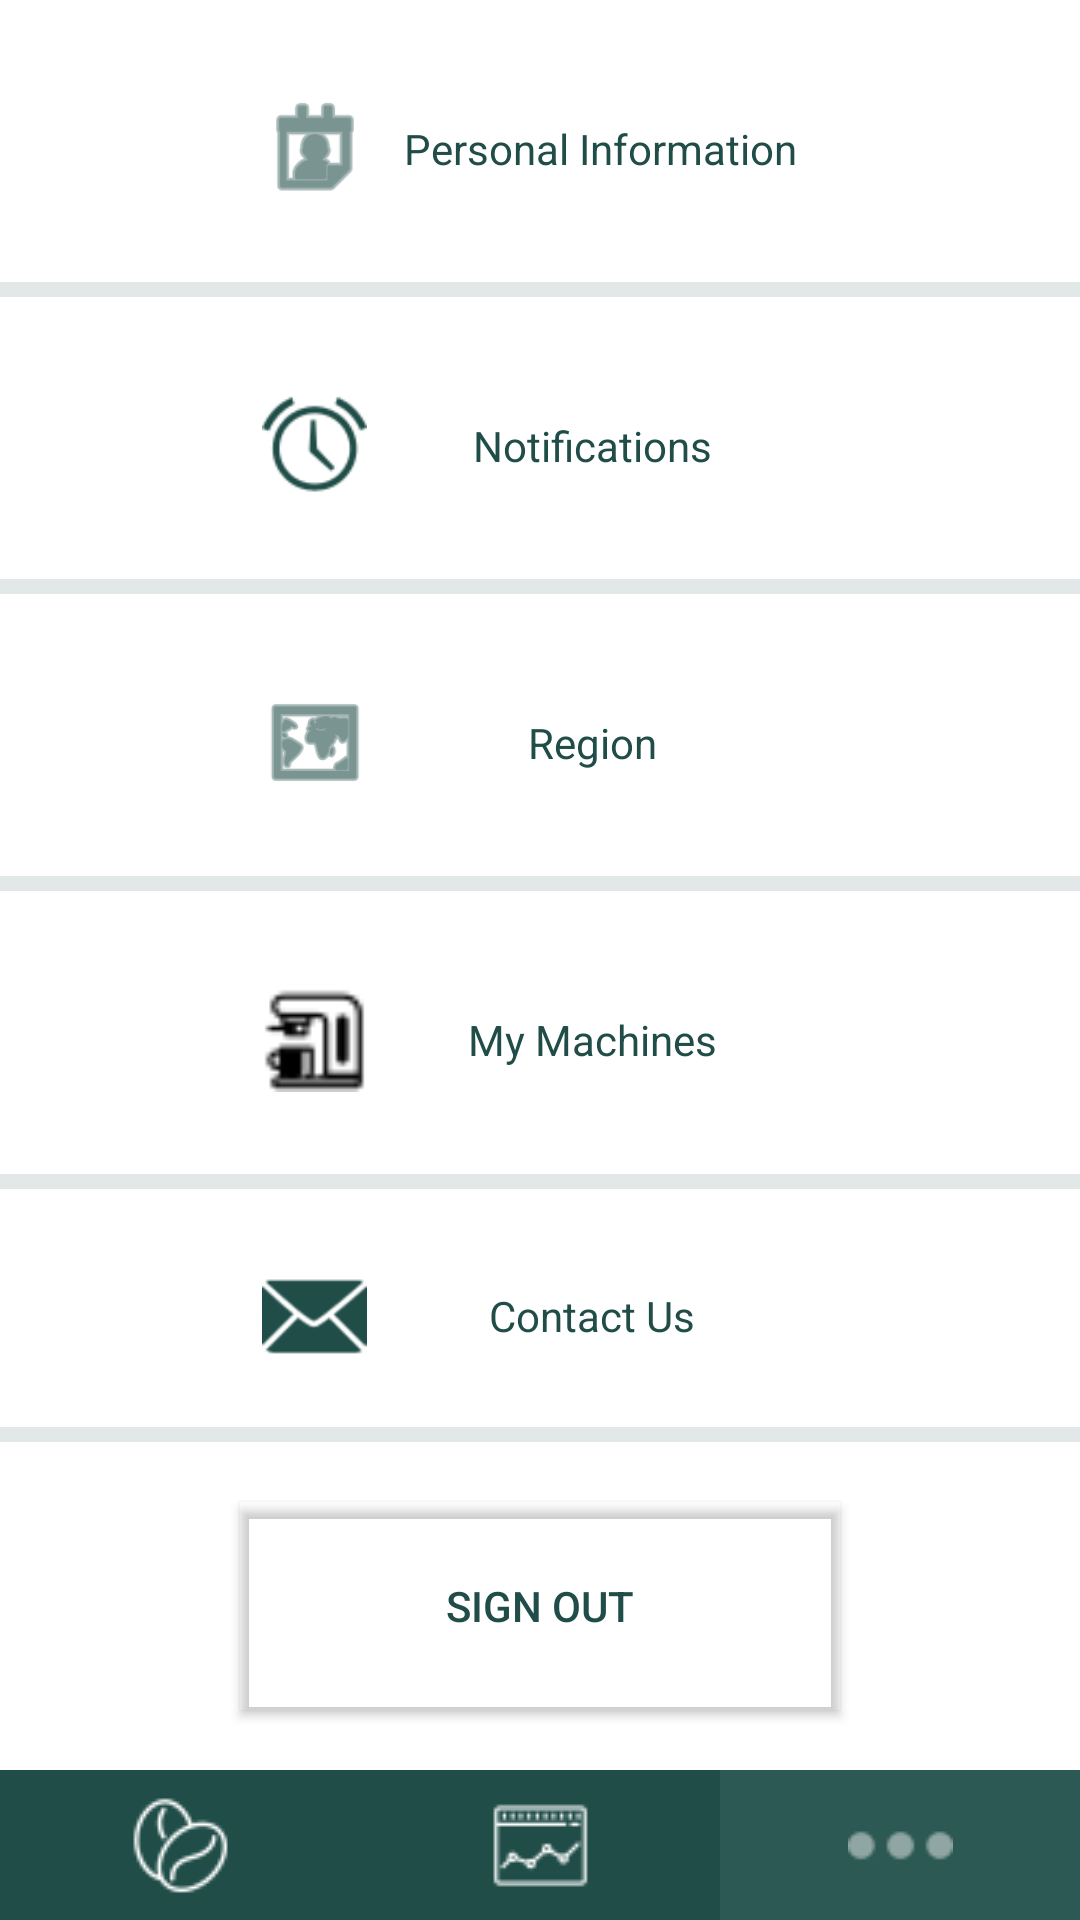

Screen size 1080*1920. Icon name, then its box in pixels as [x1=x1, y1=y1, x2=x2, y2=y2]:
bottomnav beans: [x1=133, y1=1798, x2=228, y2=1893]
calendar: [x1=276, y1=103, x2=354, y2=191]
email: [x1=262, y1=1279, x2=367, y2=1354]
lock idle alarm: [x1=262, y1=397, x2=367, y2=492]
machineicon: [x1=265, y1=990, x2=364, y2=1092]
mapmode: [x1=271, y1=704, x2=359, y2=781]
